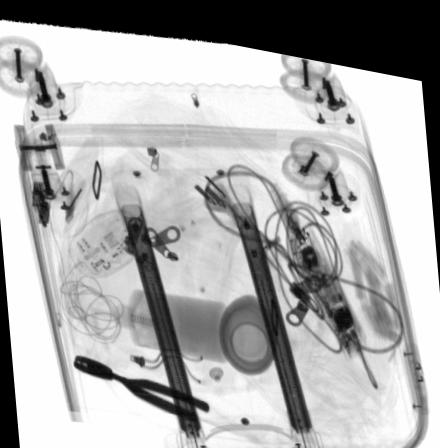Pliers: (72, 350, 206, 414)
